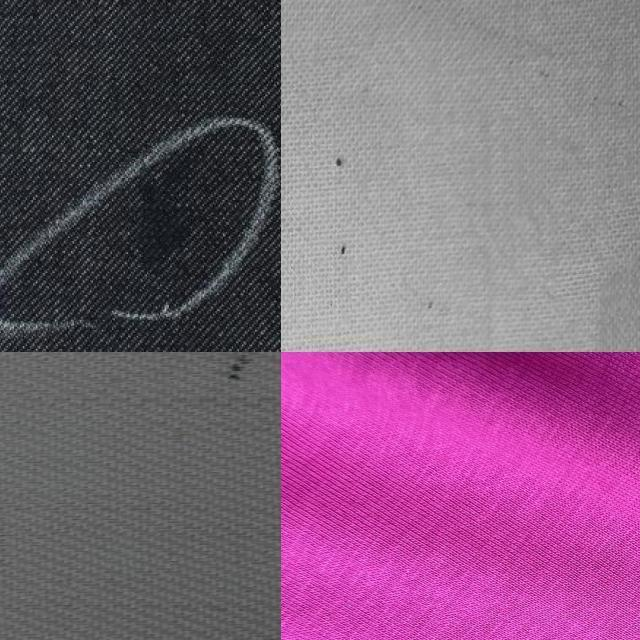Hole: (282, 100, 456, 308), (175, 352, 281, 438)
